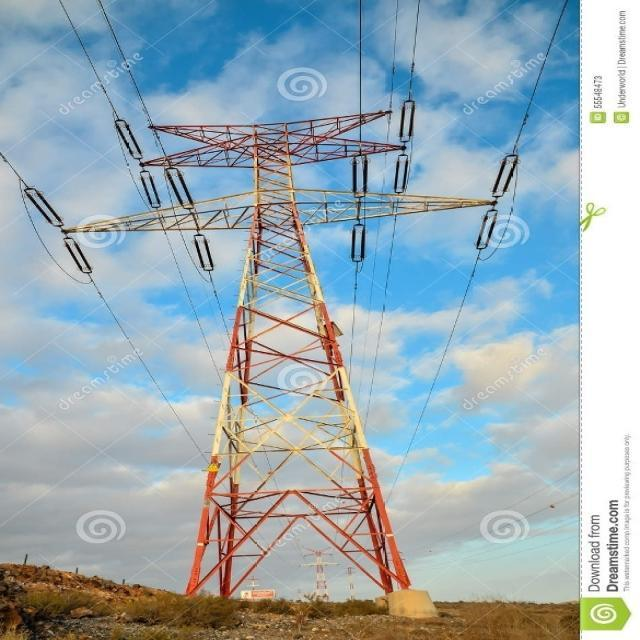non-critical vegetation: (65, 115, 498, 611)
